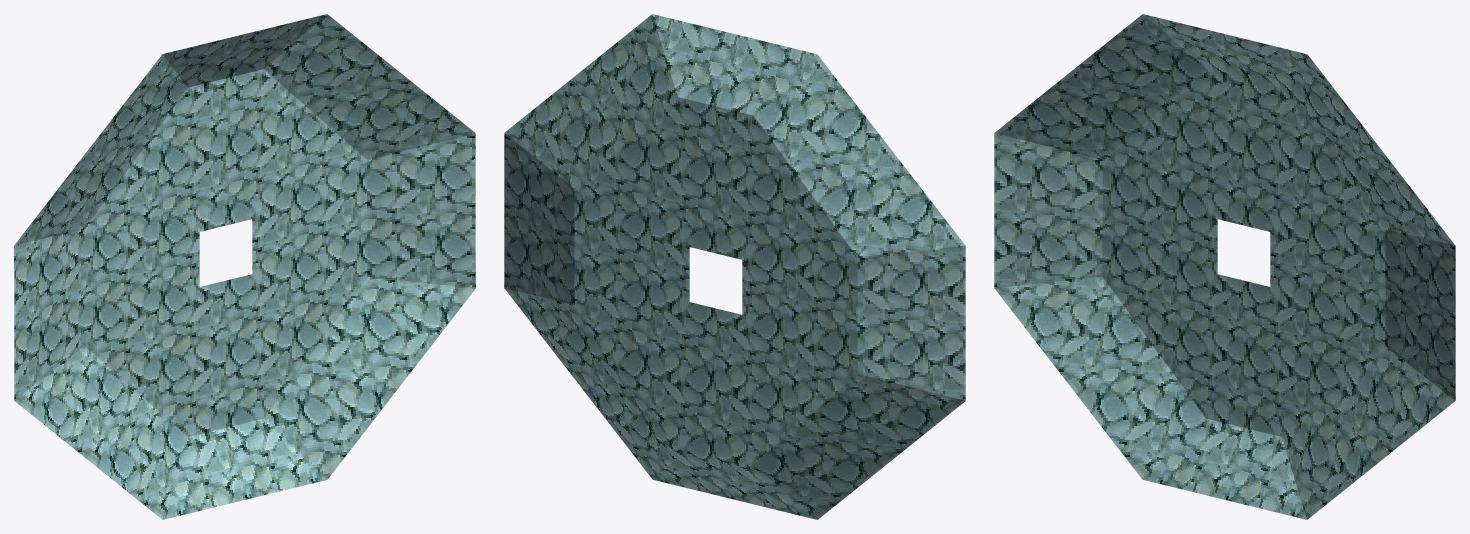
Rendered from Shape_IndexedFaceSet.012.obj.
3 views of the same model, side by side, from view 1: azimuth 30°, elevation 25°; view 2: azimuth 150°, elevation 25°; view 3: azimuth 330°, elevation 25° (orthographic).
Parts seen in each view (by area): view 1: Shape_IndexedFaceSet.012; view 2: Shape_IndexedFaceSet.012; view 3: Shape_IndexedFaceSet.012.
Boxes of the visible parts, bbox=[...] form: Shape_IndexedFaceSet.012: bbox=[14, 14, 475, 519]; Shape_IndexedFaceSet.012: bbox=[504, 14, 965, 519]; Shape_IndexedFaceSet.012: bbox=[994, 14, 1455, 519].
Bounding box in the file's own units: 1.79 × 1.73 × 0.1299.
1 material, 1 textured.
